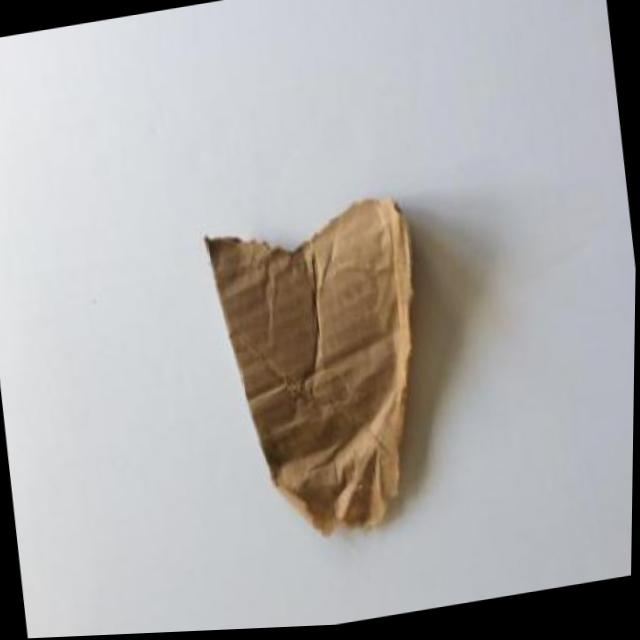box: (190, 185, 468, 582)
